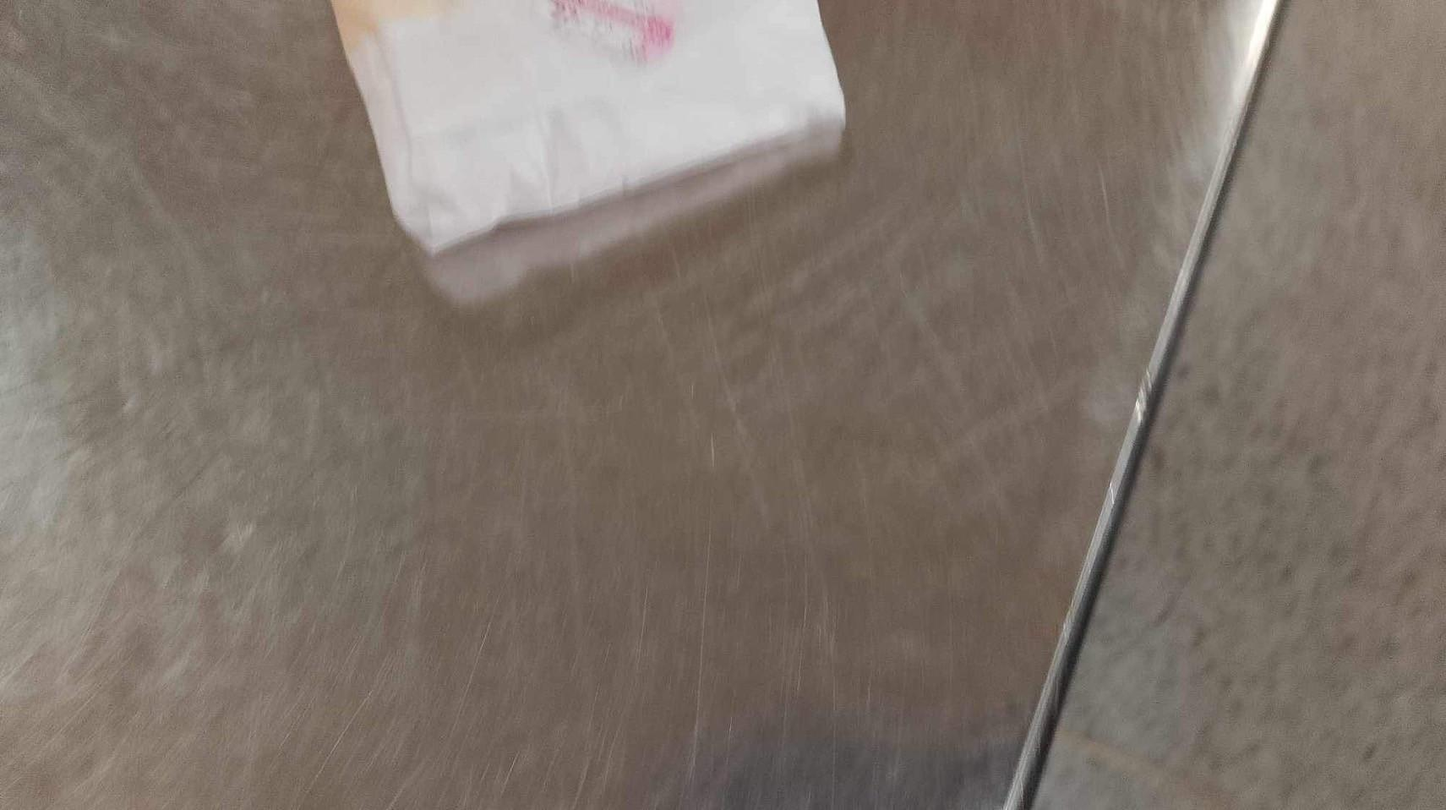Infectious: (329, 0, 848, 263)
Sharps: (996, 3, 1286, 805)
